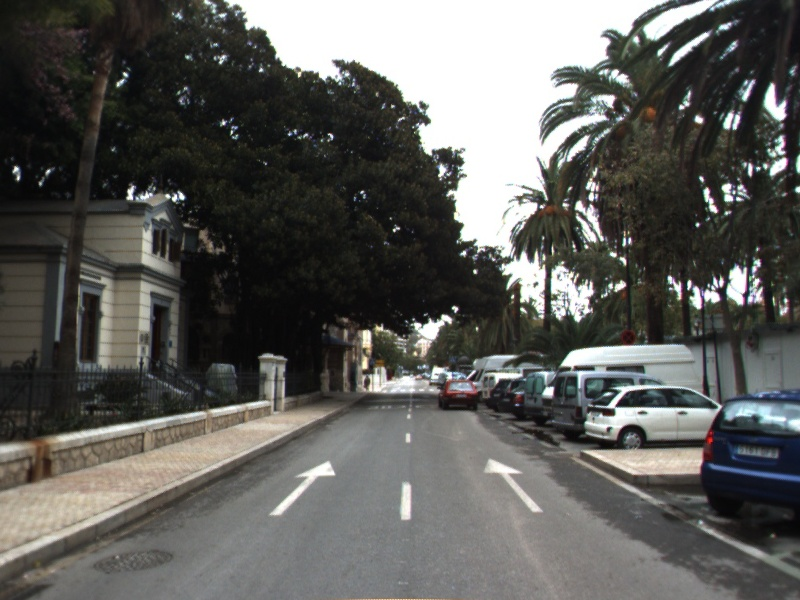STRAIGHT: (267, 459, 338, 517), (482, 456, 546, 514)
